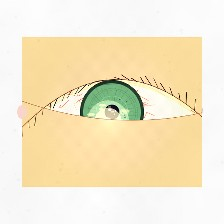corneal_ulcer: (86, 104, 130, 139)
